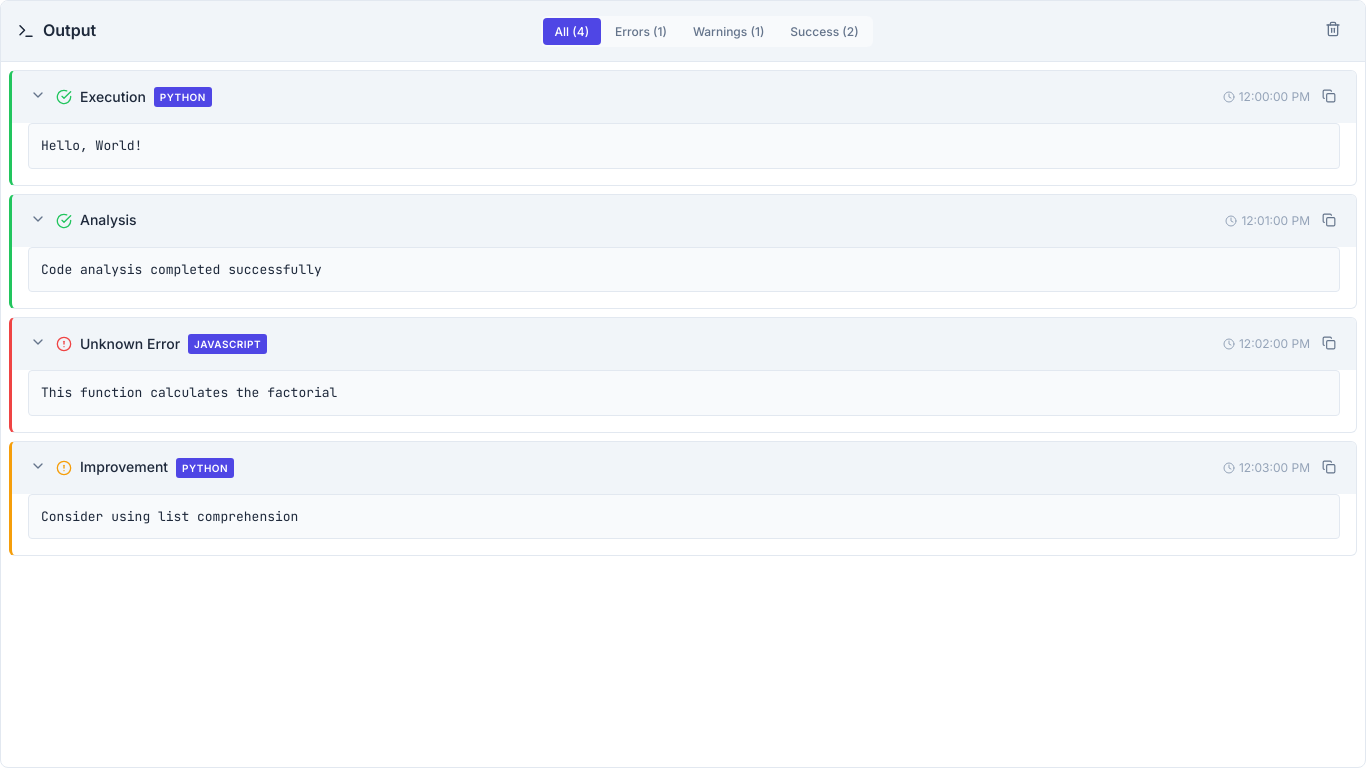
OutputPanel Component › Tab Filtering › should filter to success only when success tab is clicked
Click the button "Success (2)" at (824, 31), box top-left (778, 18), bottom-right (871, 44)
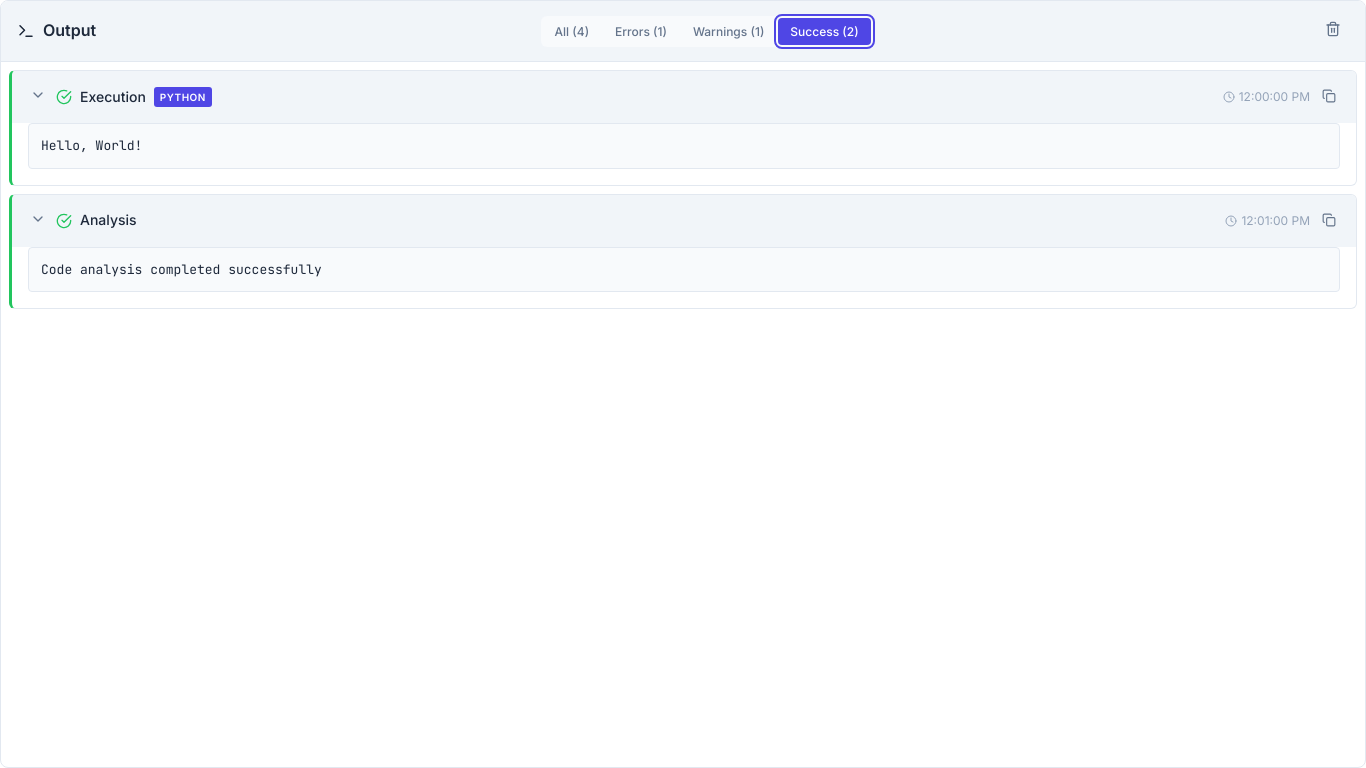
Expected: the text "Hello, World!" is shown, top-left (28, 123), bottom-right (1340, 168)
Result: the text "This function calculates the factorial" is gone
Result: the text "Consider using list comprehension" is gone
